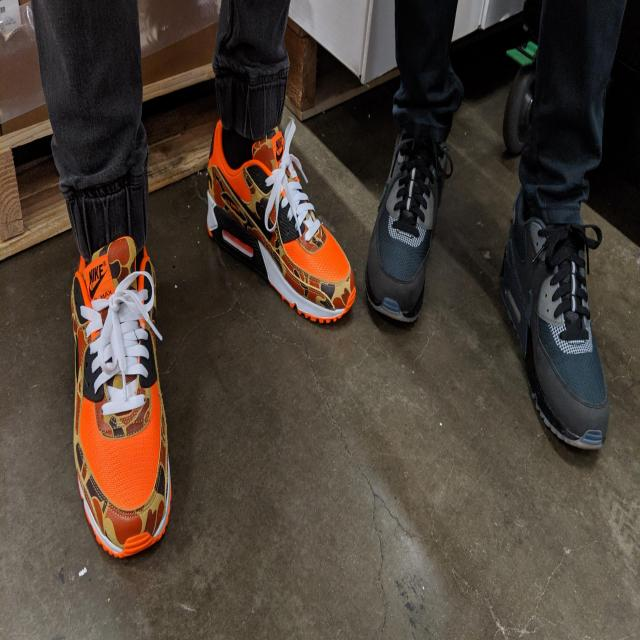shoe: (68, 233, 174, 565), (203, 116, 359, 324), (499, 171, 613, 455), (366, 114, 451, 330)
